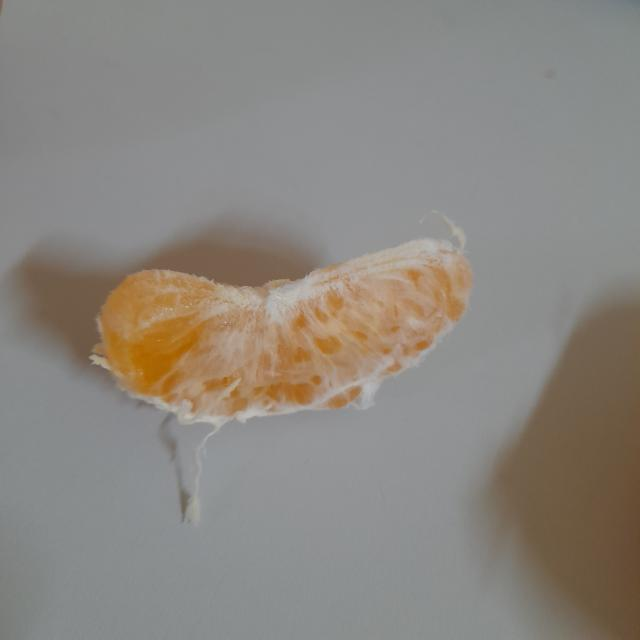Cam: (84, 230, 474, 431)
